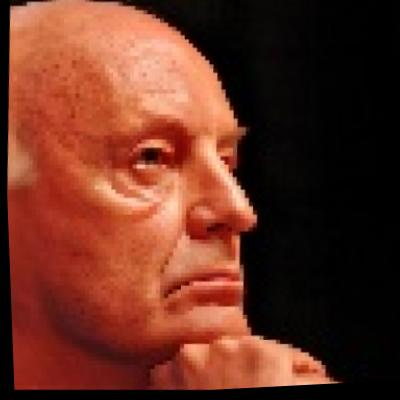sad: (26, 0, 280, 357)
